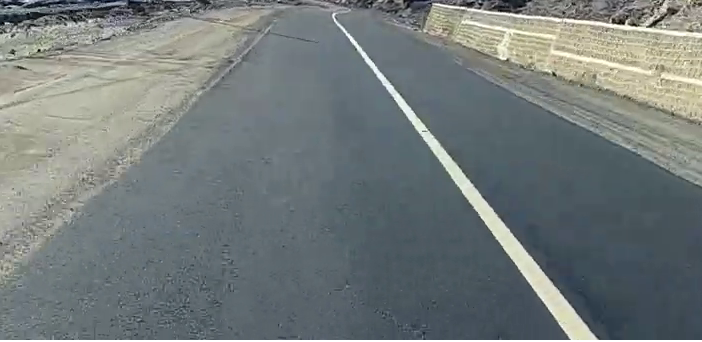left: (255, 53, 598, 277)
